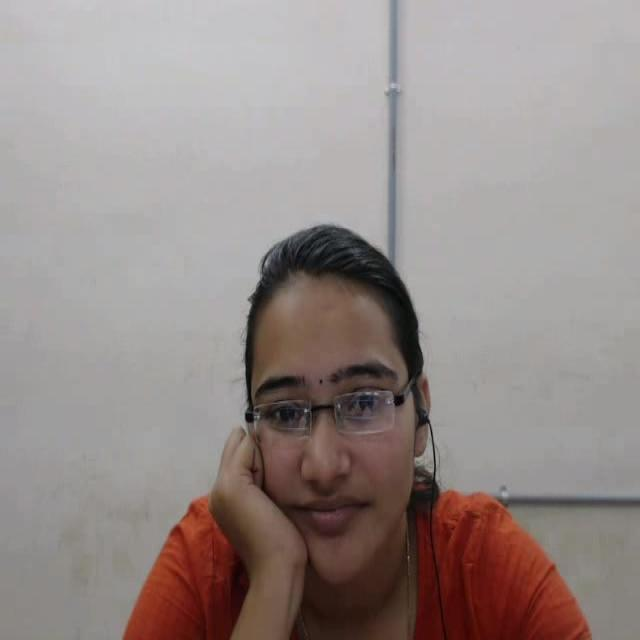Bored: (201, 190, 480, 632)
